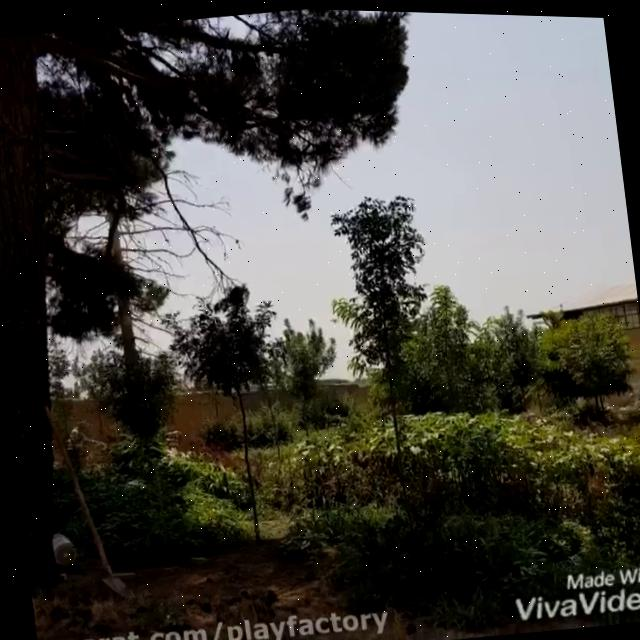drone: (327, 311, 339, 326)
